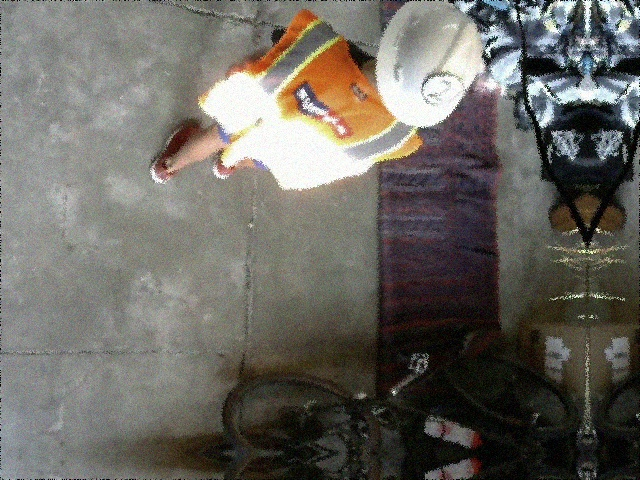two: (421, 73, 464, 107)
